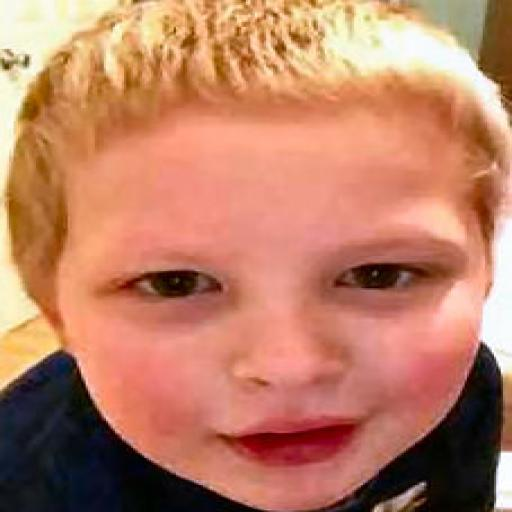Autism: (28, 8, 512, 506)
